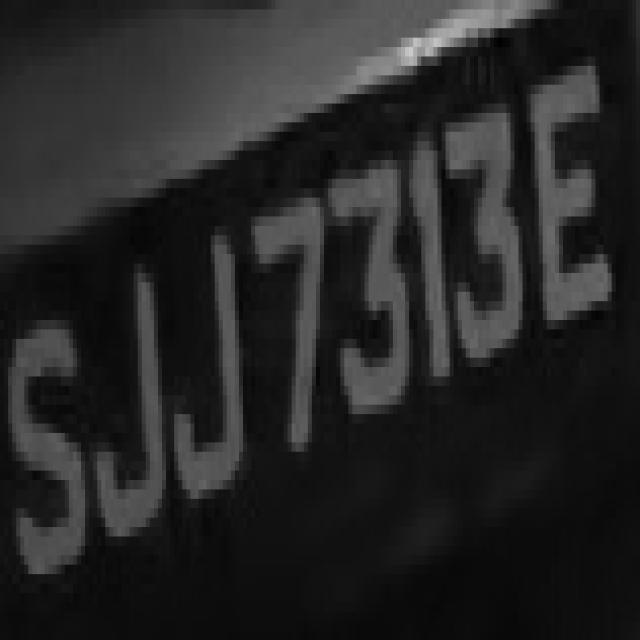1: (401, 113, 458, 423)
3: (429, 94, 539, 386), (312, 141, 413, 452)
7: (243, 160, 332, 471)
E: (522, 38, 620, 348)
J: (73, 216, 166, 564), (162, 188, 243, 508)
S: (8, 292, 85, 612)
